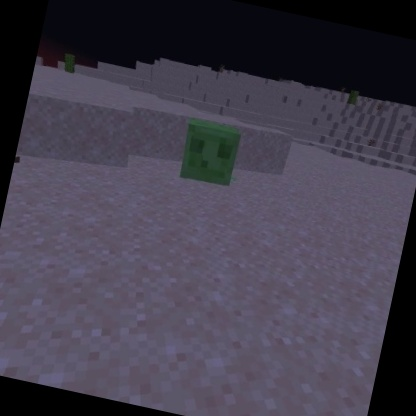slime: (175, 115, 244, 192)
